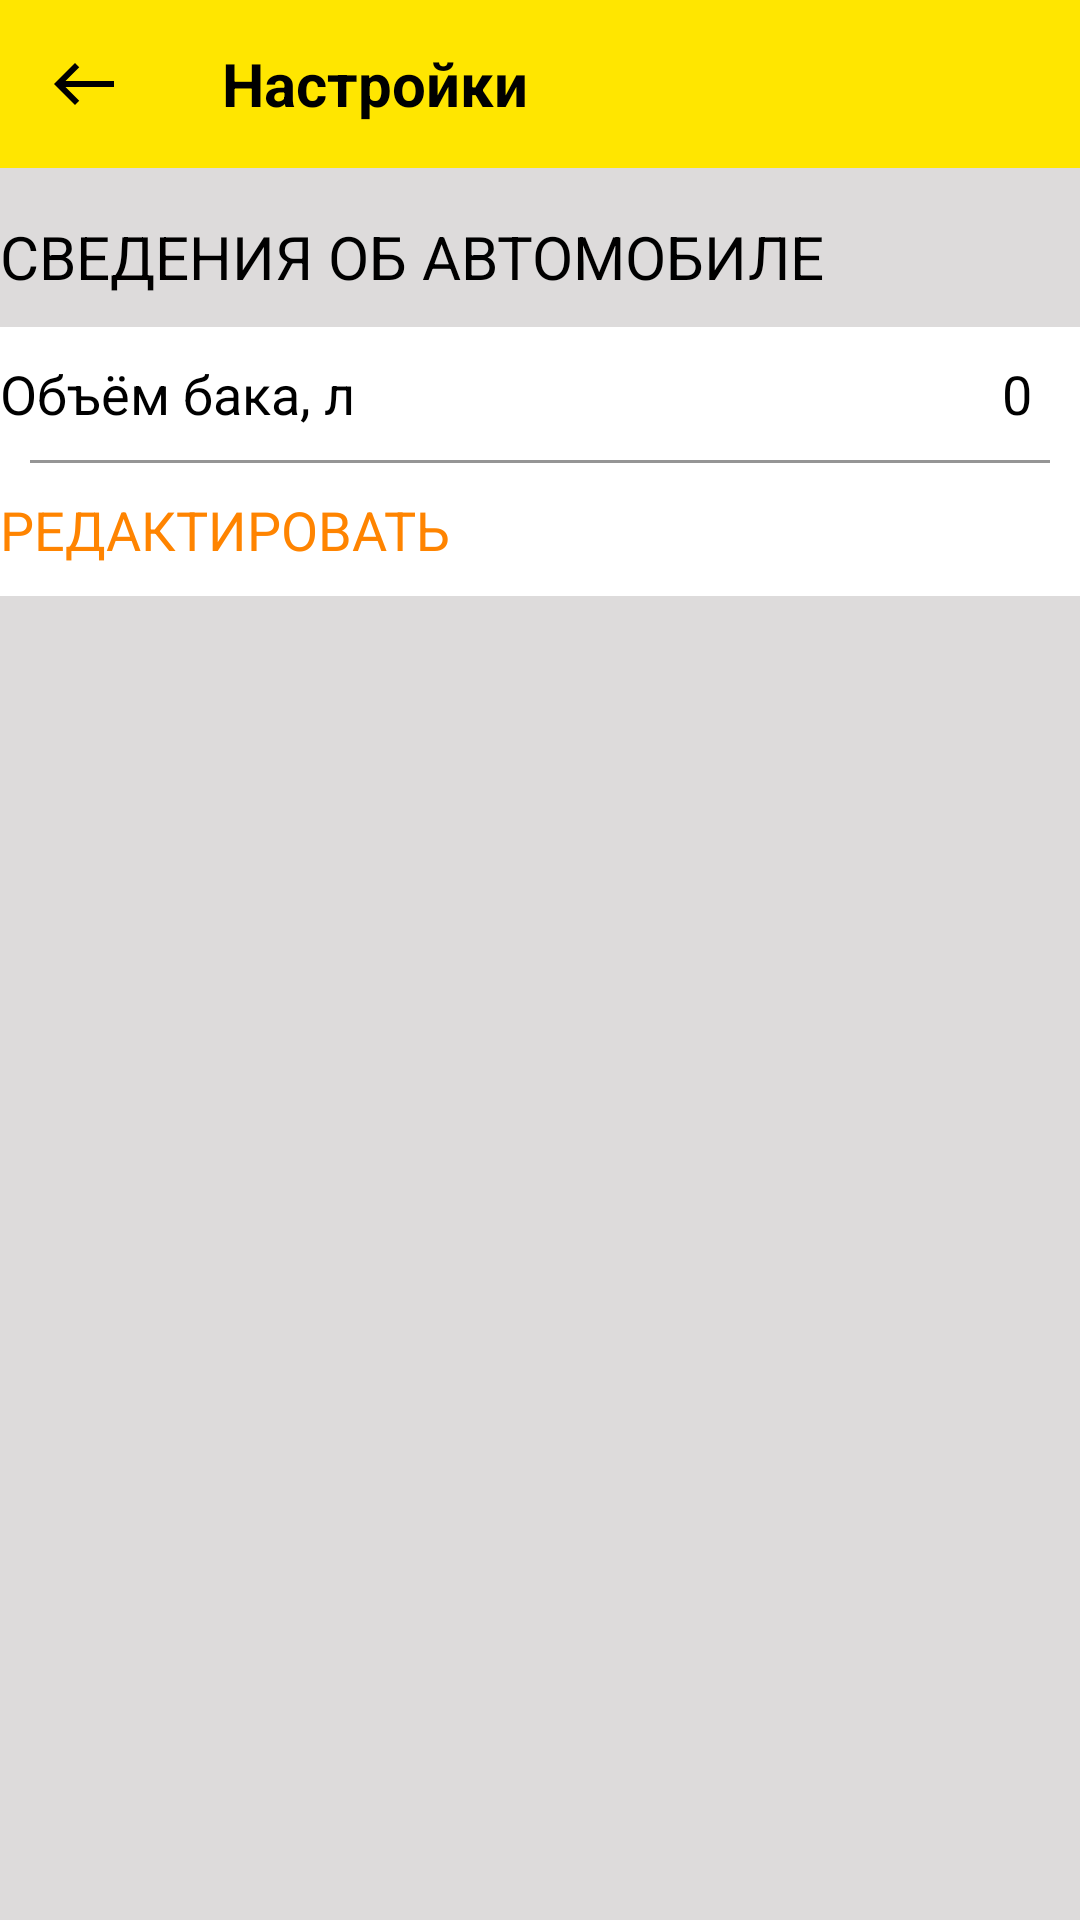

Named icons in this screenshot (1080×1920) and their centers, (x=x, y=y):
back: (x=84, y=84)
